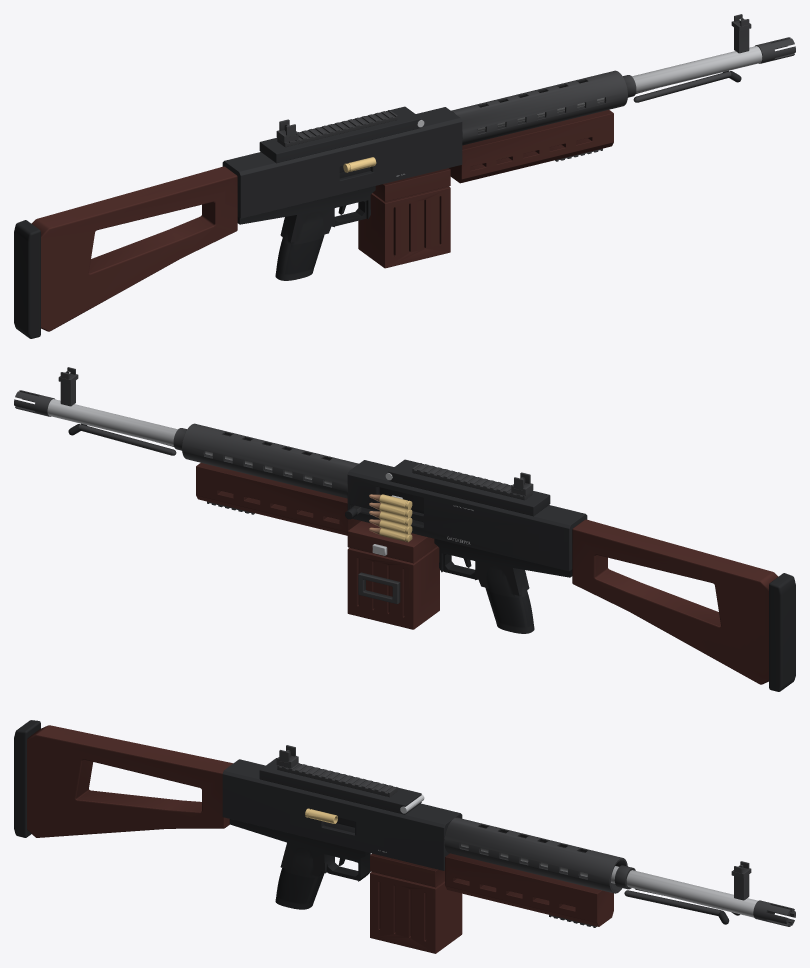
Rendered from gatekeeper.glb.
The picture shows the model from 3 angles, top to bottom: view 1: azimuth 30°, elevation 25°; view 2: azimuth 150°, elevation 25°; view 3: azimuth 330°, elevation 25°; orthographic projection.
Visible parts, largest first — view 1: GTK_stock, GTK_body, GTK_mag, GTK_shroud, GTK_guard, GTK_lower, GTK_cover, GTK_barrel, GTK_butt, GTK_bipod; view 2: GTK_stock, GTK_body, GTK_mag, GTK_shroud, GTK_guard, GTK_lower, GTK_cover, GTK_barrel, GTK_butt, GTK_belt, GTK_bipod; view 3: GTK_stock, GTK_body, GTK_mag, GTK_shroud, GTK_guard, GTK_lower, GTK_cover, GTK_barrel, GTK_butt, GTK_bipod.
Boxes of the visible parts, <box> form: GTK_stock: <box>31,166,237,331</box>; GTK_body: <box>222,107,462,218</box>; GTK_mag: <box>358,168,450,268</box>; GTK_shroud: <box>451,70,627,145</box>; GTK_guard: <box>449,110,613,183</box>; GTK_lower: <box>237,186,375,280</box>; GTK_cover: <box>259,106,424,163</box>; GTK_barrel: <box>478,37,795,131</box>; GTK_butt: <box>14,220,40,338</box>; GTK_bipod: <box>623,70,741,102</box>; GTK_stock: <box>572,519,778,684</box>; GTK_body: <box>347,460,587,571</box>; GTK_mag: <box>347,521,439,629</box>; GTK_shroud: <box>182,423,358,498</box>; GTK_guard: <box>196,463,360,535</box>; GTK_lower: <box>434,539,572,633</box>; GTK_cover: <box>385,459,550,516</box>; GTK_barrel: <box>14,390,331,484</box>; GTK_butt: <box>769,573,795,691</box>; GTK_belt: <box>369,494,412,542</box>; GTK_bipod: <box>68,423,186,455</box>; GTK_stock: <box>27,725,232,837</box>; GTK_body: <box>222,759,462,870</box>; GTK_mag: <box>370,853,462,953</box>; GTK_shroud: <box>444,817,627,893</box>; GTK_guard: <box>445,853,613,926</box>; GTK_lower: <box>229,819,370,909</box>; GTK_cover: <box>259,745,424,814</box>; GTK_barrel: <box>461,843,795,926</box>; GTK_butt: <box>14,720,40,837</box>; GTK_bipod: <box>614,865,739,924</box>.
Bounding box in the file's own units: 1.16 × 0.2335 × 0.1132.
